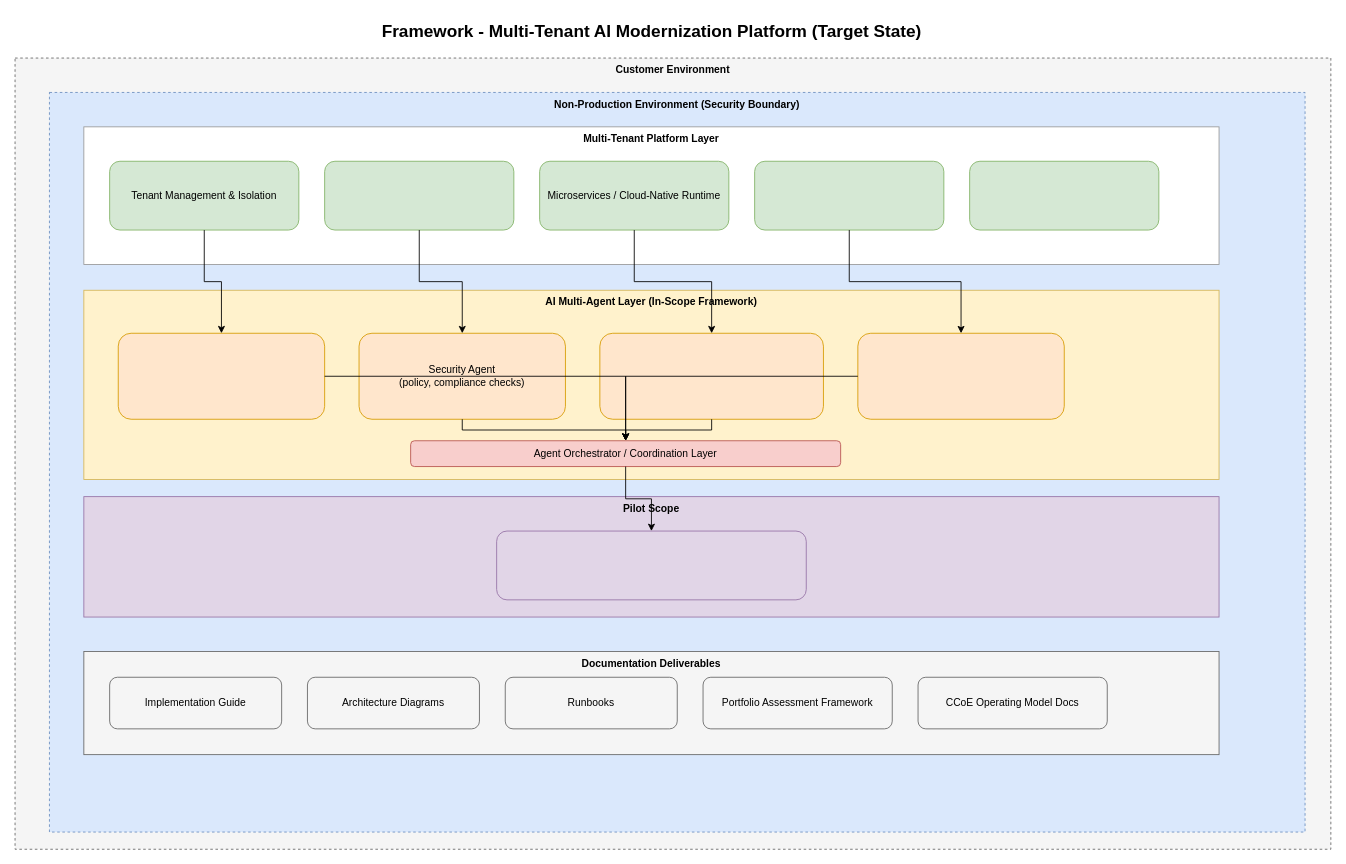
This 1346x864 diagram has some shape labels left out. Here are the shapes that lost their labels. From the top down, the centre of each, then its label:
point 419,195: API Gateway / Modernization Layer
point 849,195: Shared Data / Observability Layer
point 1064,195: CCoE Governance & Ops Model
point 221,375: DevOps Agent (CI/CD, IaC automation)
point 711,375: Application Modernization Agent (assessment, migration planning)
point 960,375: Portfolio Assessment Engine (AI-powered categorization)
point 651,565: Pilot Application (1) Deployed & Modernized via Agents
